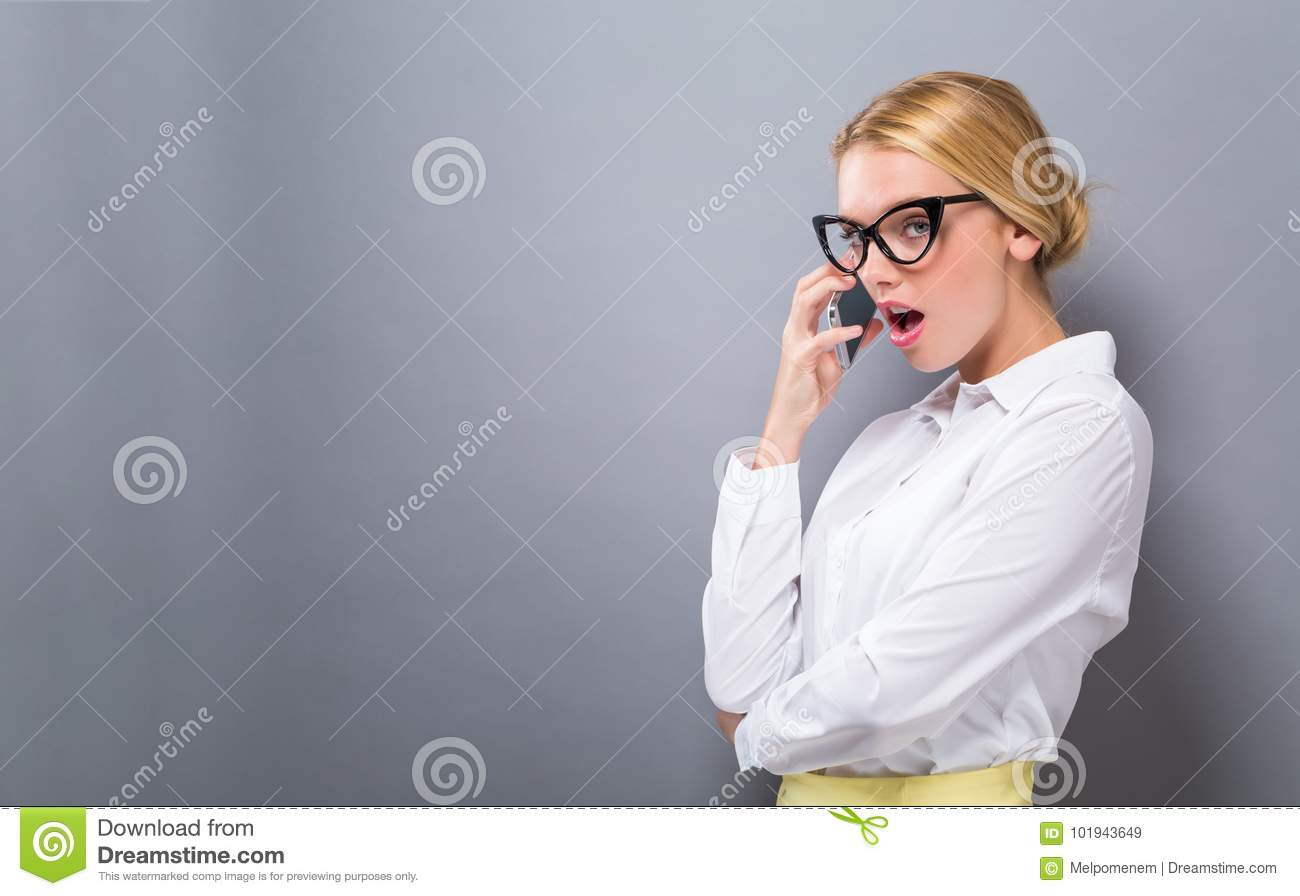phone: (830, 263, 877, 373)
talk: (773, 187, 966, 431)
